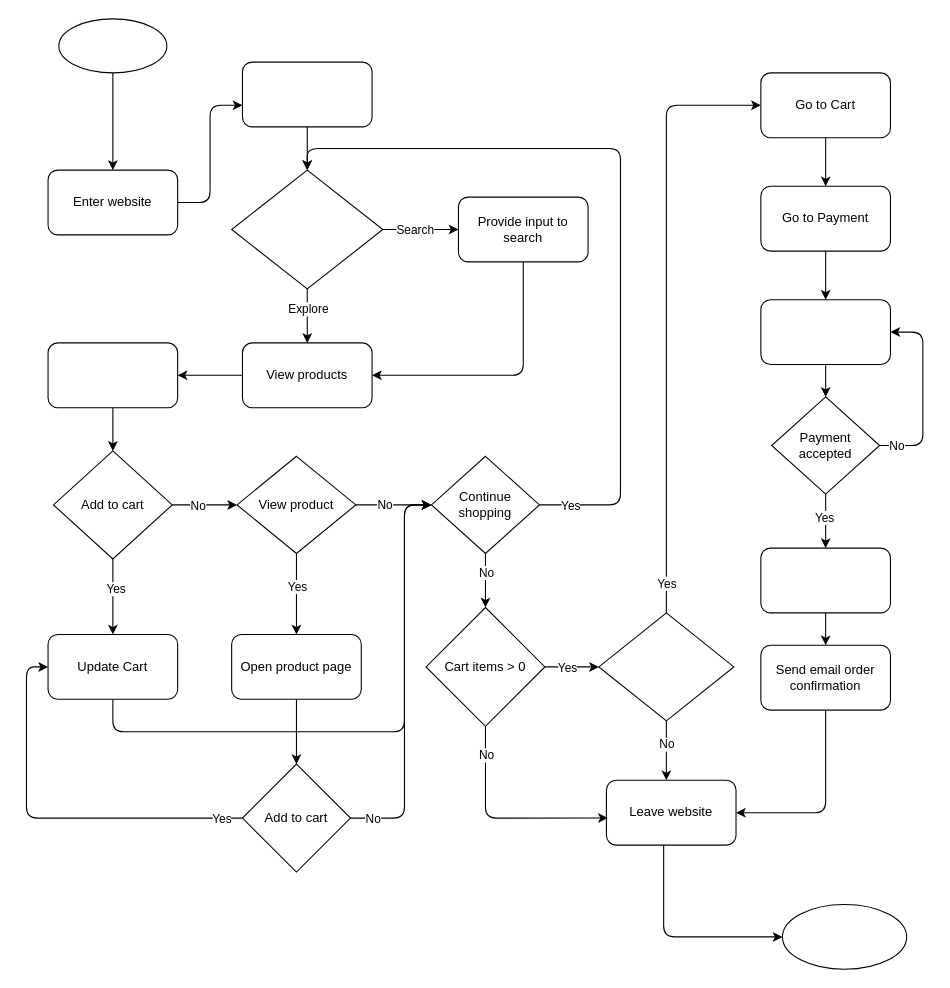
Some shapes in this 950 by 988 pixel diagram are drawn without their labels. Each missing label, with the box of its shape:
Checkout items: (598, 612, 734, 721)
Click on a product: (47, 342, 178, 408)
Direct to home page: (241, 61, 372, 127)
End: (781, 903, 907, 969)
Go to order confirmation: (760, 547, 890, 613)
Input payment information: (760, 299, 890, 364)
Search or Explore products: (231, 169, 383, 289)
Start: (58, 18, 167, 73)
